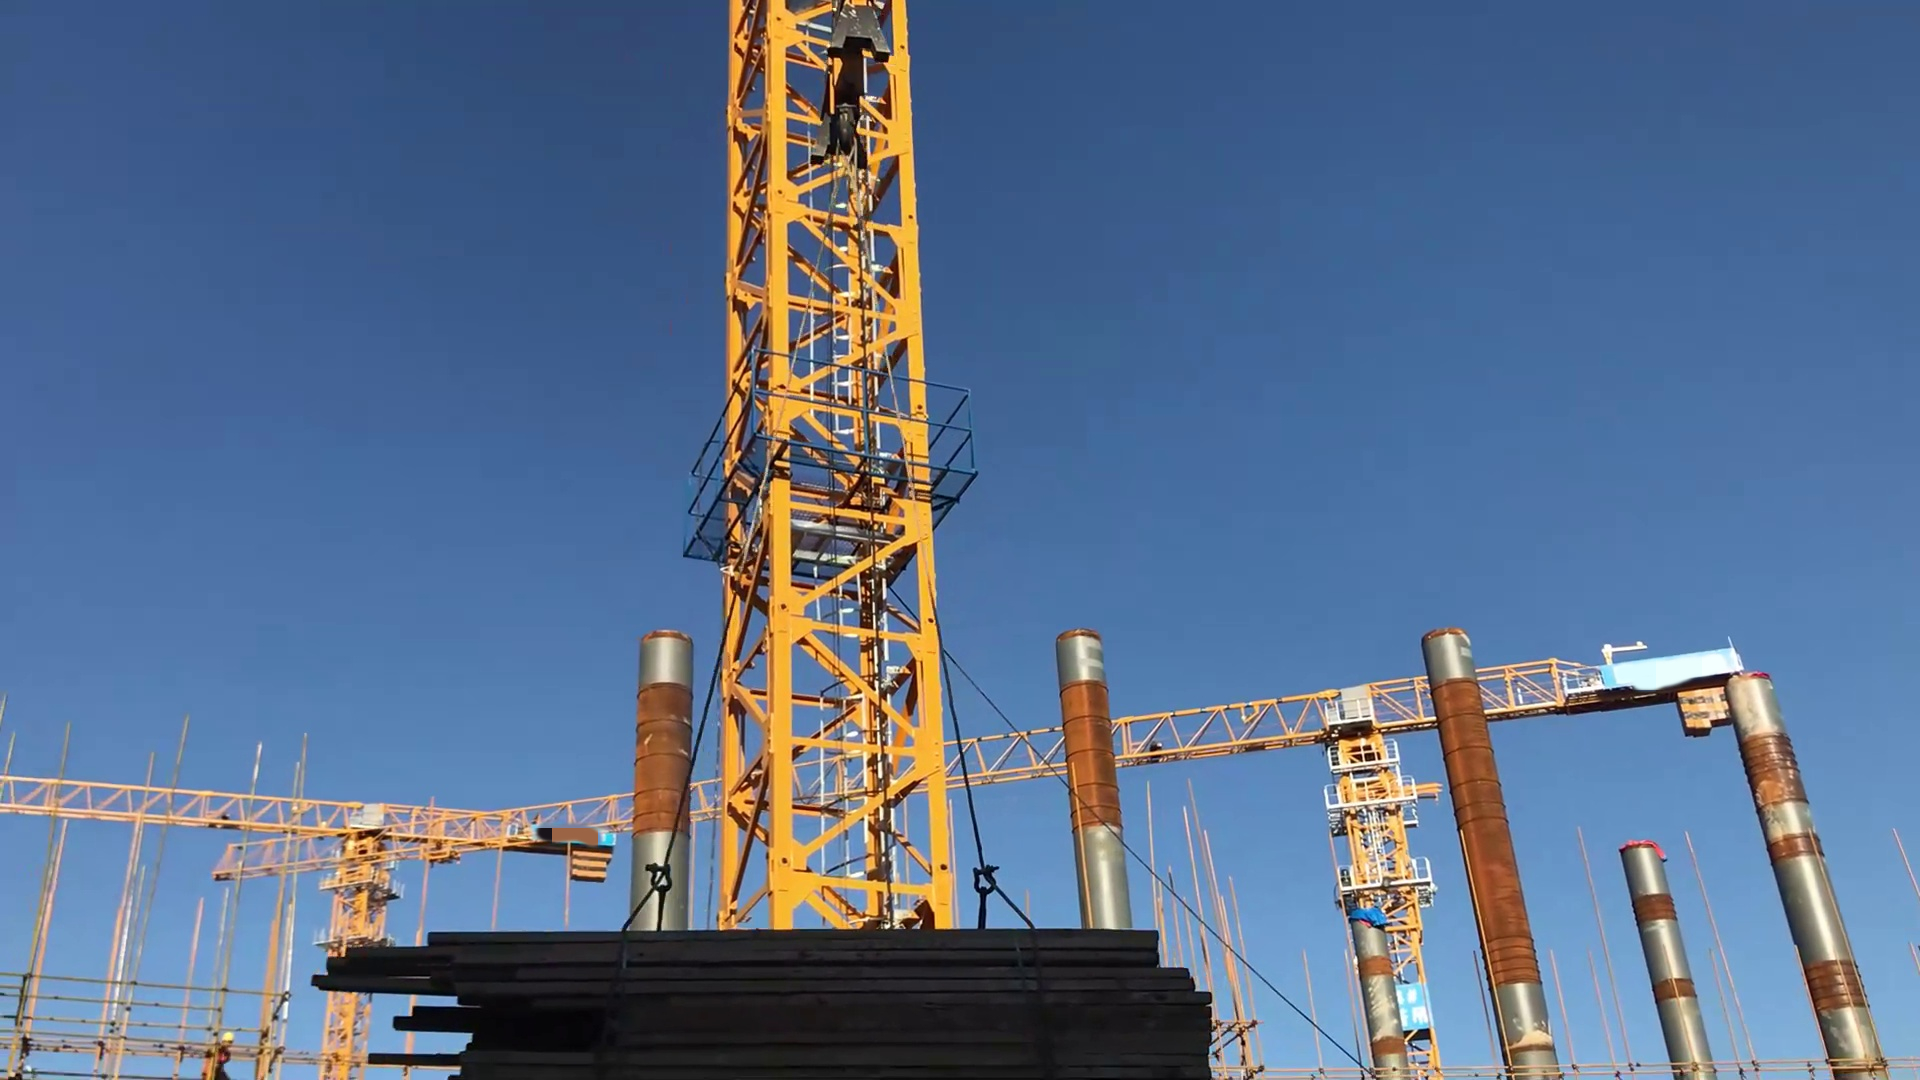hook: (814, 1, 893, 161)
wood: (313, 911, 1218, 1080)
